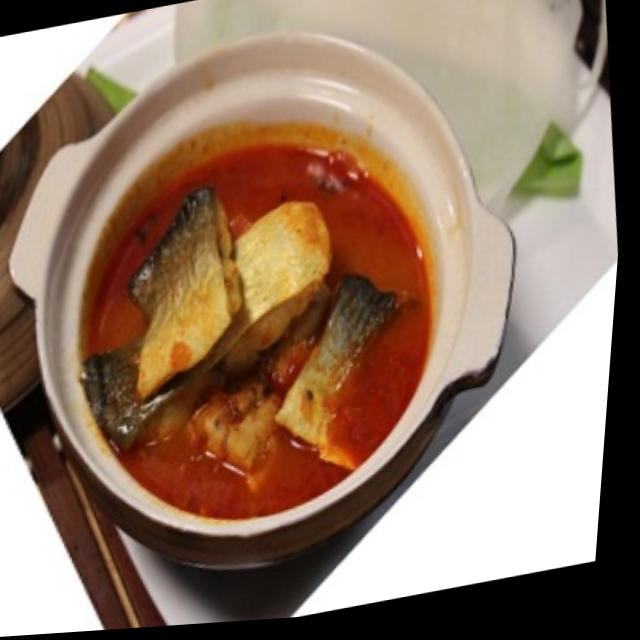FISH CURRY: (78, 124, 433, 523)
